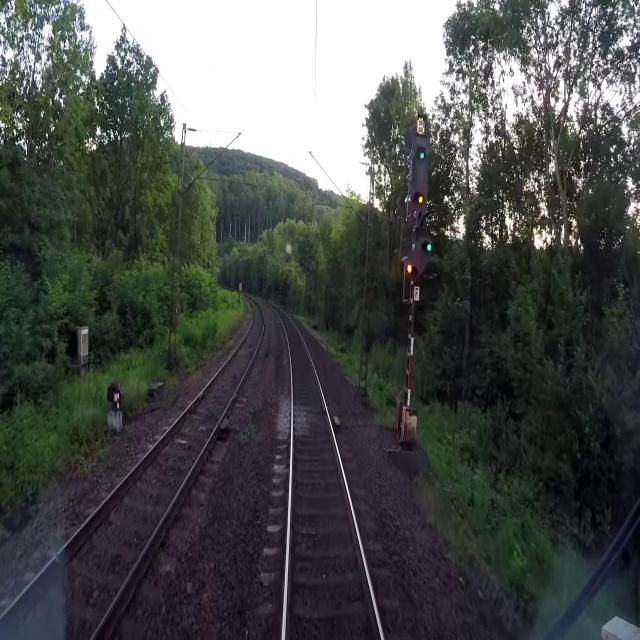rail-track: (0, 299, 262, 639), (273, 307, 379, 639)
